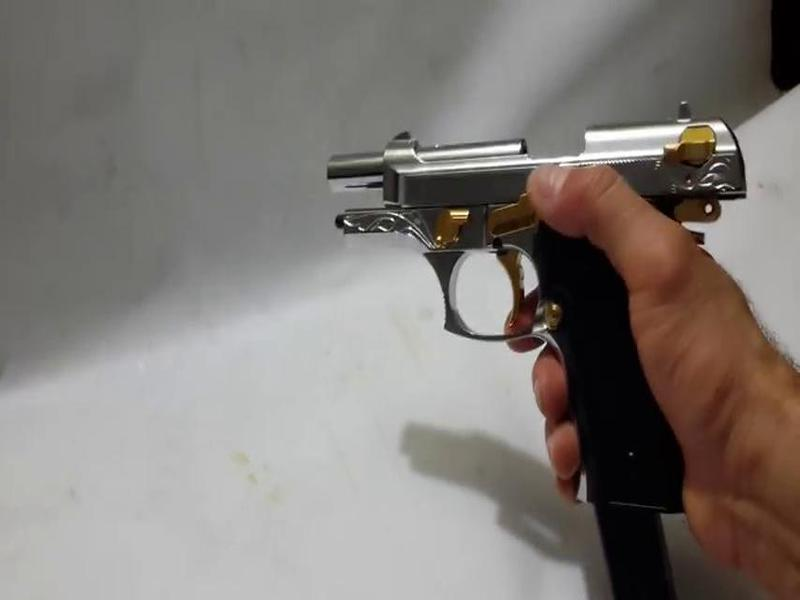Pistola: (306, 80, 774, 519)
